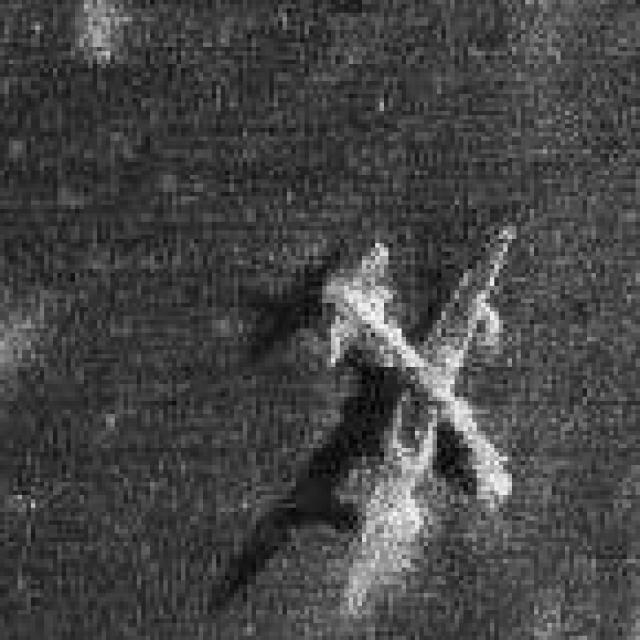plane: (274, 205, 547, 572)
